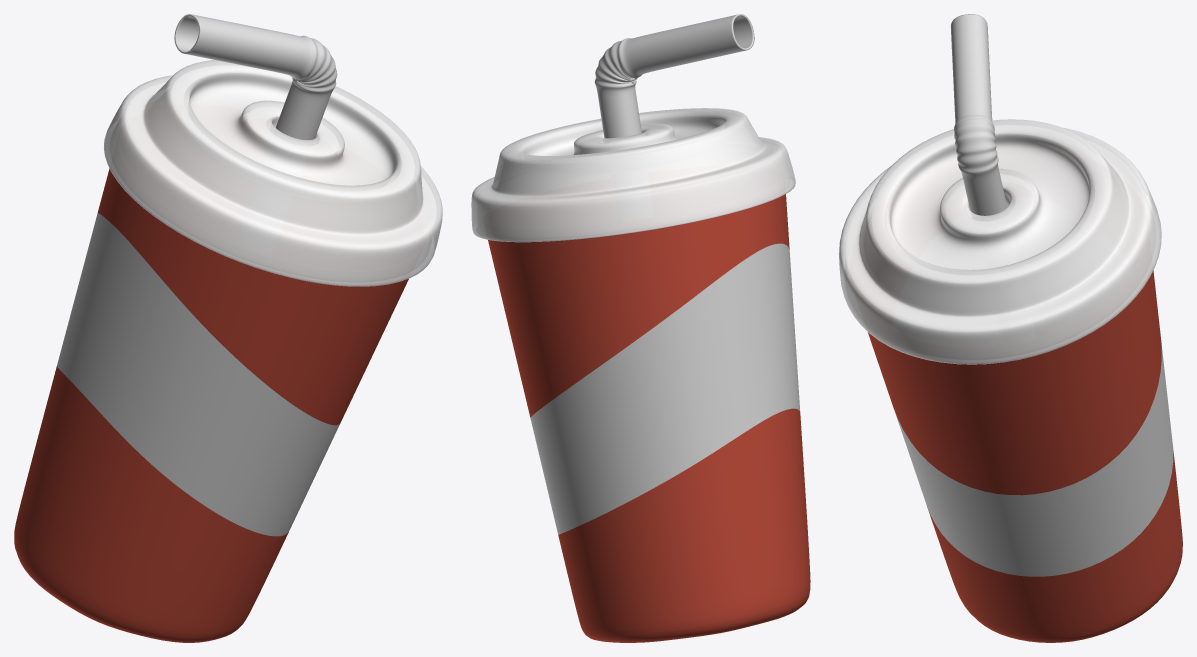
Rendered from Soda.fbx.
3 views of the same model, side by side, from view 1: azimuth 30°, elevation 25°; view 2: azimuth 150°, elevation 25°; view 3: azimuth 270°, elevation 25° (orthographic). The views are drawn at different scales.
Parts seen in each view (by area): view 1: soda_cup.010_Circle.153, soda_cup.011_Circle.154, straw.001_Circle.147; view 2: soda_cup.010_Circle.153, soda_cup.011_Circle.154, straw.001_Circle.147; view 3: soda_cup.010_Circle.153, soda_cup.011_Circle.154, straw.001_Circle.147.
Part boxes in pixels (left/top/right/bottom): soda_cup.010_Circle.153: left=14, top=168, right=408, bottom=642; soda_cup.011_Circle.154: left=103, top=60, right=442, bottom=286; straw.001_Circle.147: left=174, top=14, right=337, bottom=144; soda_cup.010_Circle.153: left=488, top=194, right=810, bottom=642; soda_cup.011_Circle.154: left=471, top=108, right=795, bottom=242; straw.001_Circle.147: left=594, top=14, right=754, bottom=138; soda_cup.010_Circle.153: left=867, top=270, right=1182, bottom=642; soda_cup.011_Circle.154: left=839, top=119, right=1161, bottom=364; straw.001_Circle.147: left=950, top=14, right=1007, bottom=219.
Size of the model in its own units: 124 by 213 by 112.
